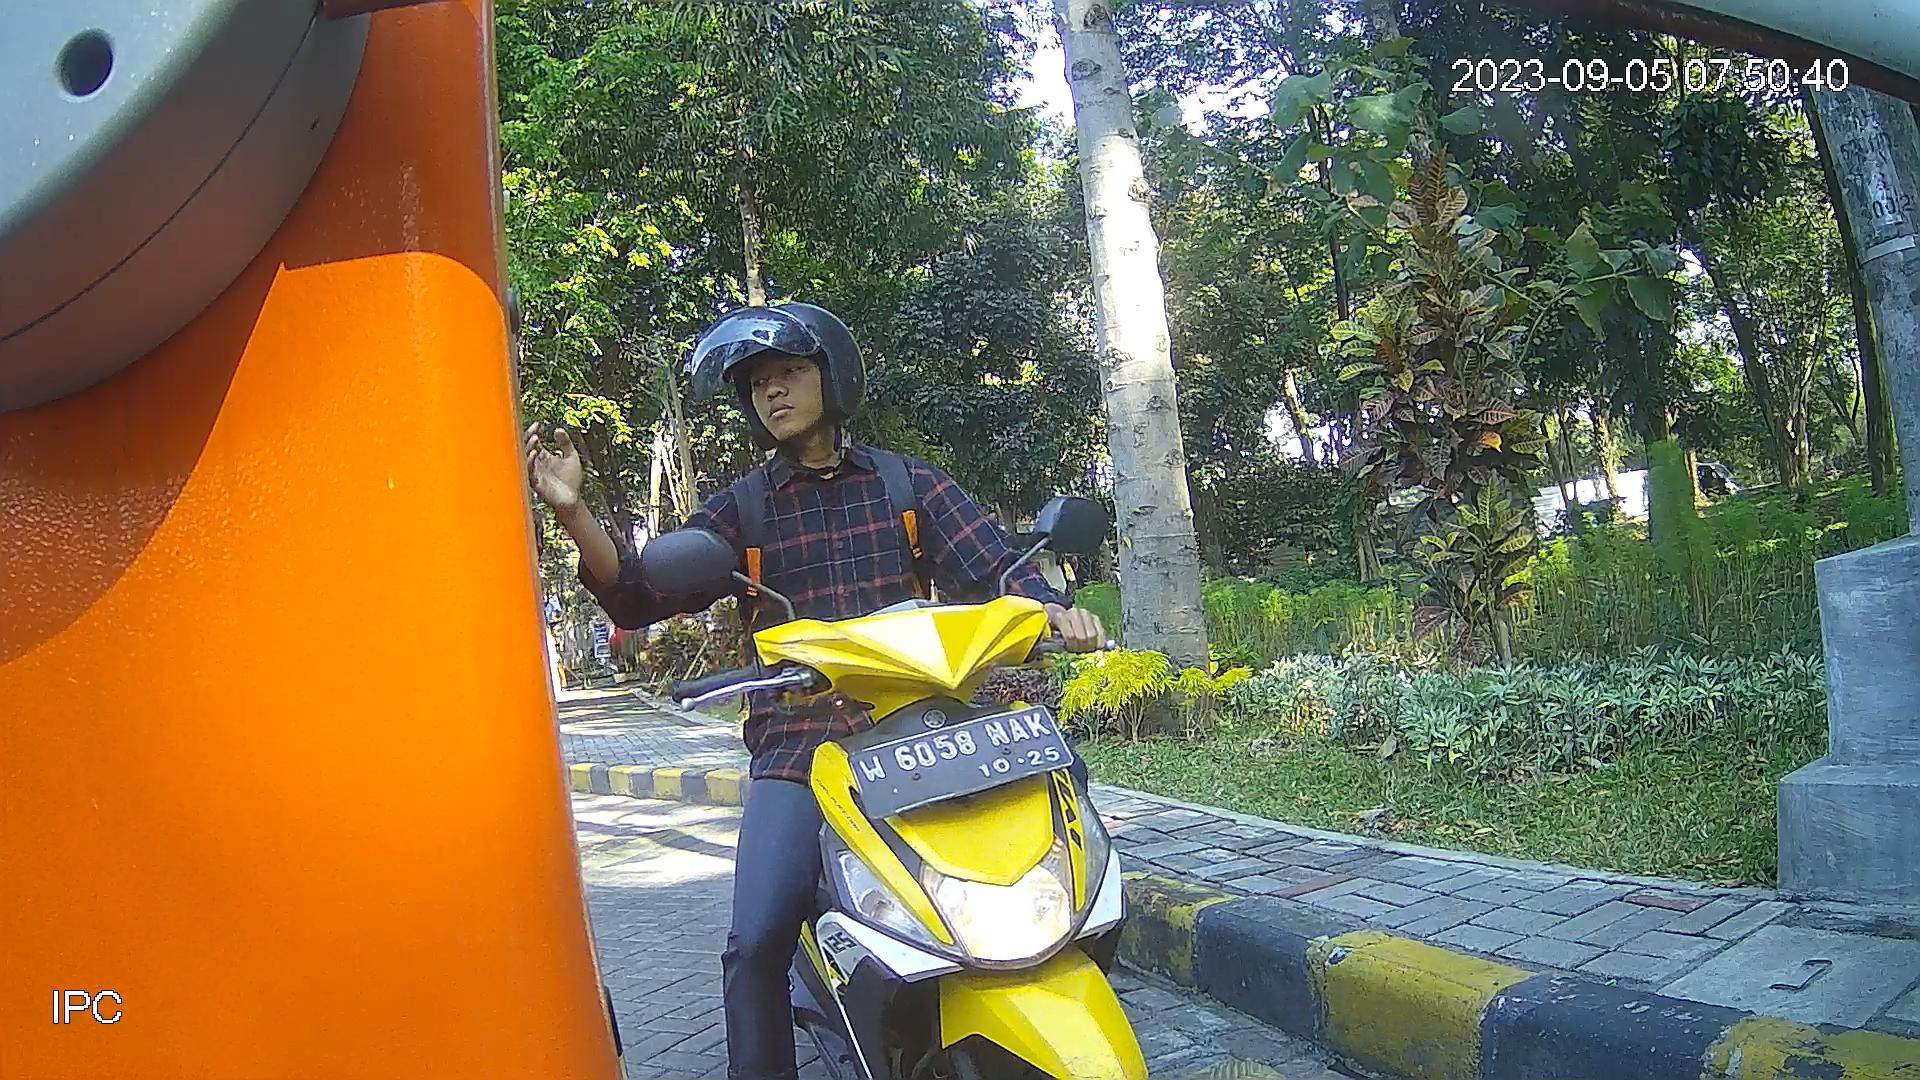plat: (843, 703, 1080, 823)
